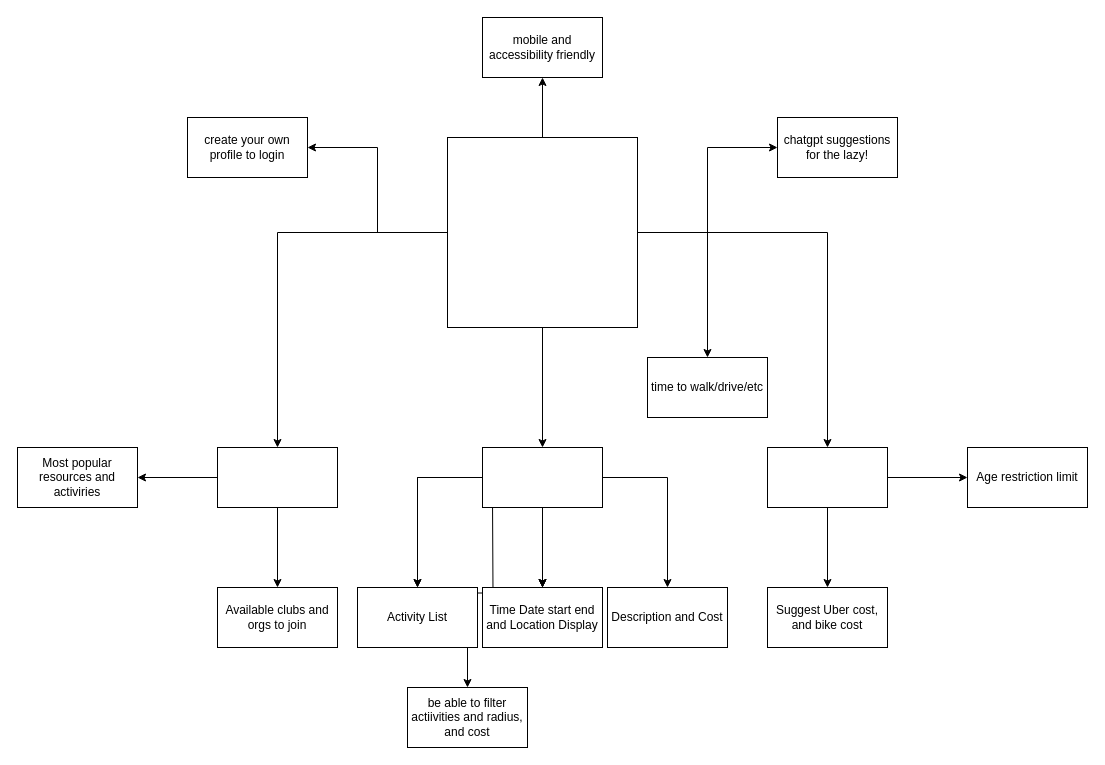
Some shapes in this 1105 by 765 pixel diagram are drawn without their labels. The shapes that lost their labels are listed below. From the top down, each one's centre as x and y in pixels, then its label:
At point (542, 232): "Full Activity navigation website for SU students!".
At point (277, 477): "On Campus".
At point (542, 477): "Core".
At point (827, 477): "Off Campus".
